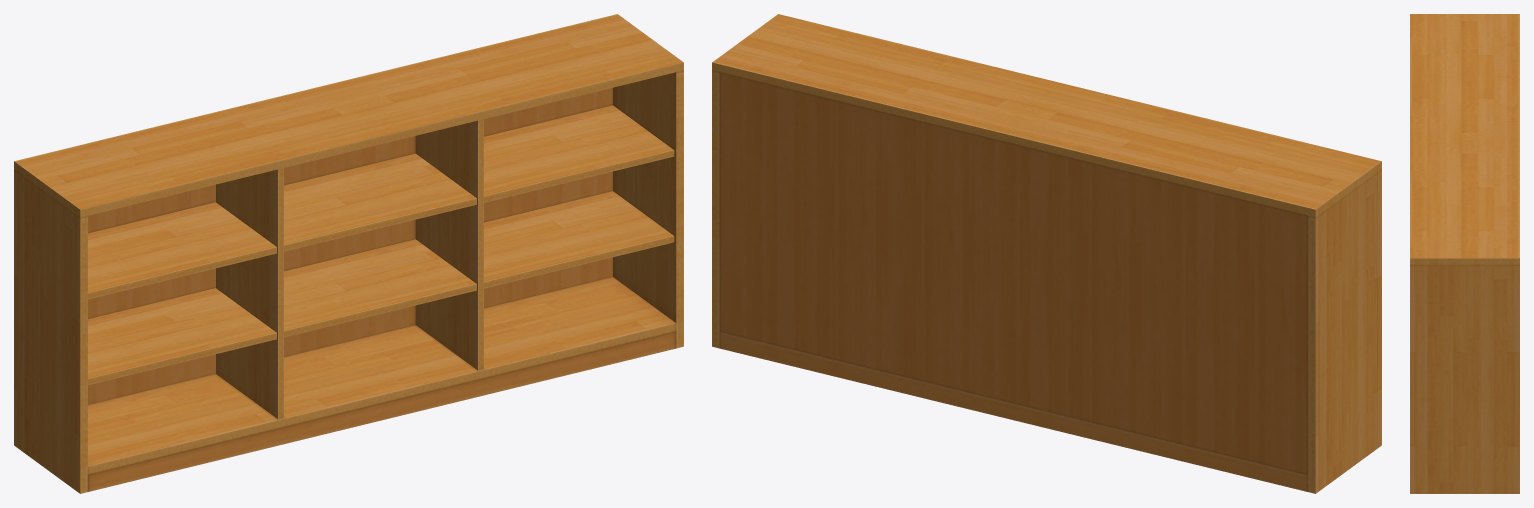
Rendered from SHW_Rack_02_01.fbx.
3 views of the same model, side by side, from view 1: azimuth 30°, elevation 25°; view 2: azimuth 150°, elevation 25°; view 3: azimuth 270°, elevation 25° (orthographic). The views are drawn at different scales.
Parts seen in each view (by area): view 1: shw_rack_02_01; view 2: shw_rack_02_01; view 3: shw_rack_02_01.
Boxes of the visible parts, x1=… form: shw_rack_02_01: x1=14, y1=14, x2=683, y2=493; shw_rack_02_01: x1=712, y1=14, x2=1381, y2=493; shw_rack_02_01: x1=1410, y1=14, x2=1519, y2=493.
Size of the model in its own units: 200 by 90 by 38.
